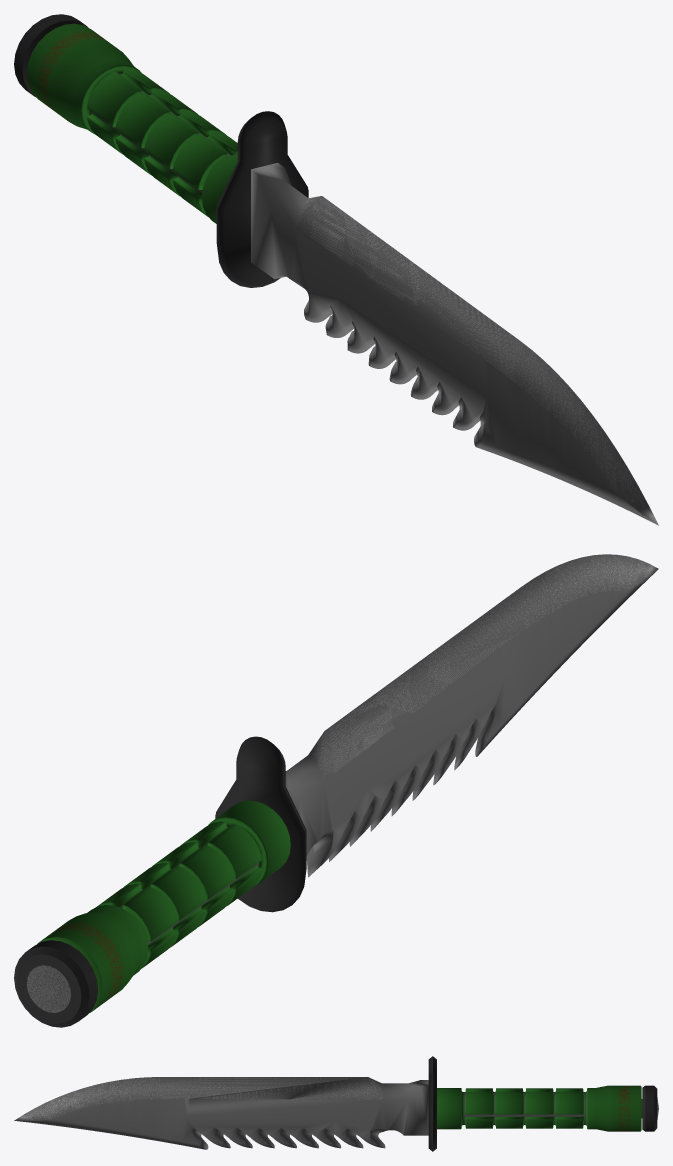
The model's file is model_align.obj.
3 views of the same model, one above another, from view 1: azimuth 30°, elevation 25°; view 2: azimuth 150°, elevation 25°; view 3: azimuth 270°, elevation 25° (orthographic). The views are drawn at different scales.
Parts seen in each view (by area): view 1: mesh3_mesh3-geometry, mesh1_mesh1-geometry, mesh2_mesh2-geometry, mesh4_mesh4-geometry; view 2: mesh3_mesh3-geometry, mesh1_mesh1-geometry, mesh2_mesh2-geometry, mesh4_mesh4-geometry; view 3: mesh3_mesh3-geometry, mesh1_mesh1-geometry, mesh2_mesh2-geometry, mesh4_mesh4-geometry.
Part boxes in pixels (x1=…): mesh3_mesh3-geometry: x1=251, y1=163, x2=658, y2=525; mesh1_mesh1-geometry: x1=27, y1=23, x2=237, y2=223; mesh2_mesh2-geometry: x1=216, y1=111, x2=308, y2=287; mesh4_mesh4-geometry: x1=14, y1=14, x2=88, y2=96; mesh3_mesh3-geometry: x1=285, y1=554, x2=658, y2=877; mesh1_mesh1-geometry: x1=37, y1=800, x2=290, y2=1013; mesh2_mesh2-geometry: x1=215, y1=736, x2=306, y2=912; mesh4_mesh4-geometry: x1=14, y1=940, x2=97, y2=1027; mesh3_mesh3-geometry: x1=14, y1=1077, x2=428, y2=1149; mesh1_mesh1-geometry: x1=437, y1=1085, x2=642, y2=1131; mesh2_mesh2-geometry: x1=428, y1=1056, x2=436, y2=1151; mesh4_mesh4-geometry: x1=642, y1=1085, x2=658, y2=1131.
Bounding box in the file's own units: 0.0177 × 0.0332 × 0.2088.
